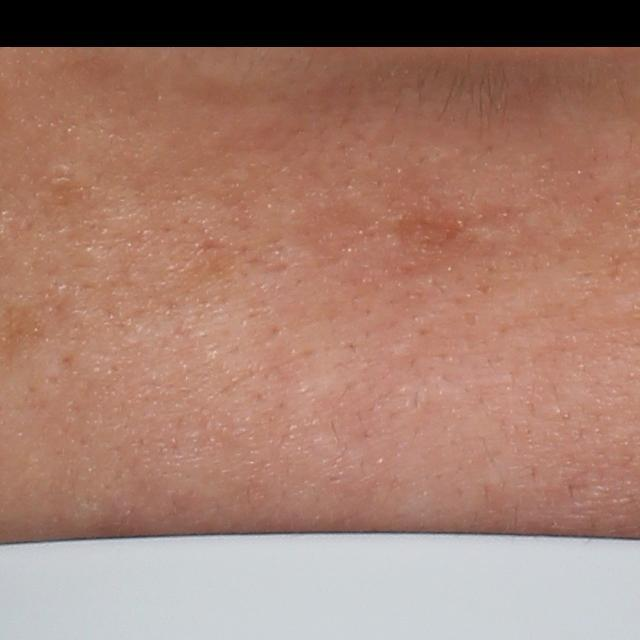hypertrophic_scar: (464, 219, 529, 250)
